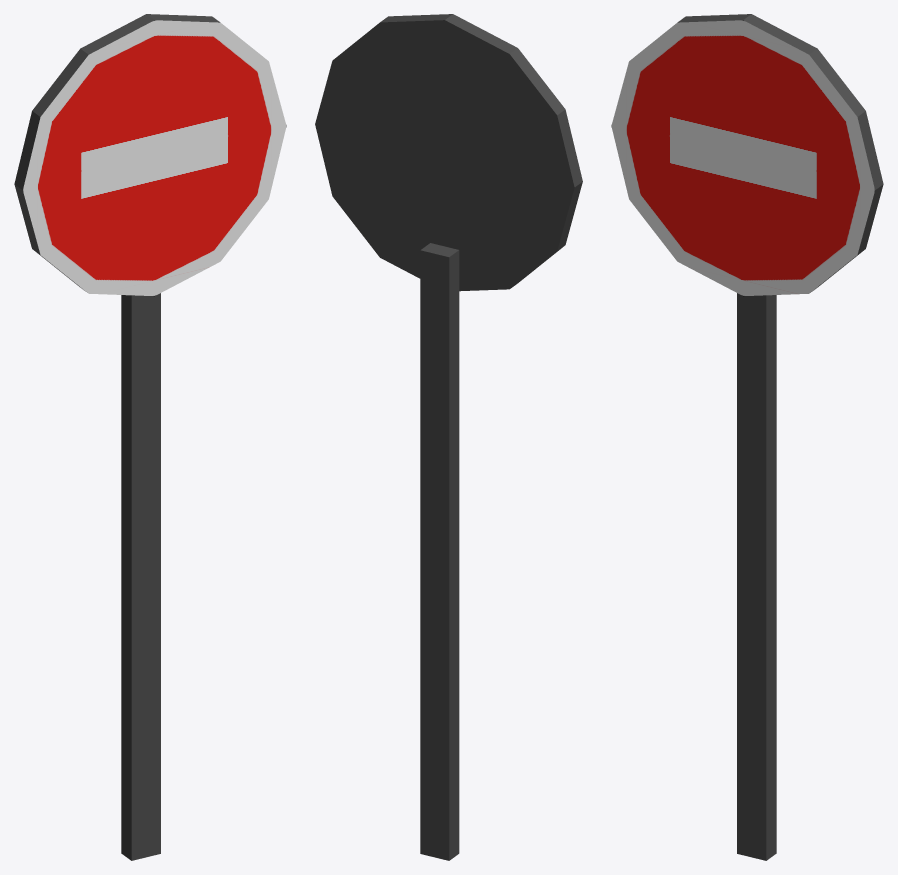
File: sign_forbidden.glb
3 renders of one model, left to right at view 1: azimuth 30°, elevation 25°; view 2: azimuth 150°, elevation 25°; view 3: azimuth 330°, elevation 25°, orthographic.
Parts seen in each view (by area): view 1: Circle, Plane; view 2: Circle, Plane; view 3: Circle, Plane.
Part boxes in pixels (x1,y1,x2,y2): Circle: (14,14,286,296); Plane: (121,293,160,860); Circle: (315,14,582,291); Plane: (420,243,459,860); Circle: (611,14,883,296); Plane: (737,293,776,860).
Size of what is drawn, in the model's own units: 0.9 by 2.75 by 0.11.
3 materials, 1 textured.
